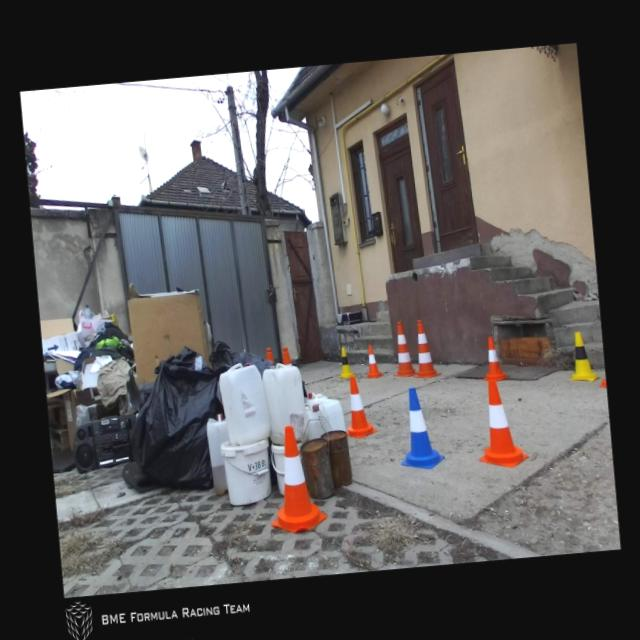blue_cone: (394, 384, 446, 471)
large_orange_cone: (408, 317, 442, 379), (388, 320, 416, 378), (281, 346, 291, 364), (265, 347, 274, 363)
orange_cone: (262, 422, 328, 536), (472, 375, 528, 469), (342, 372, 378, 438), (478, 334, 506, 382), (363, 343, 383, 378)
yellow_cone: (565, 329, 600, 382), (337, 346, 355, 378)
